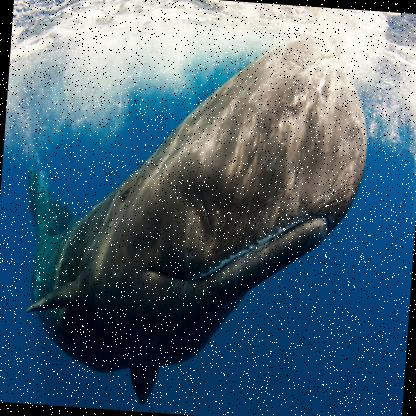sperm_whale: (9, 6, 384, 415)
